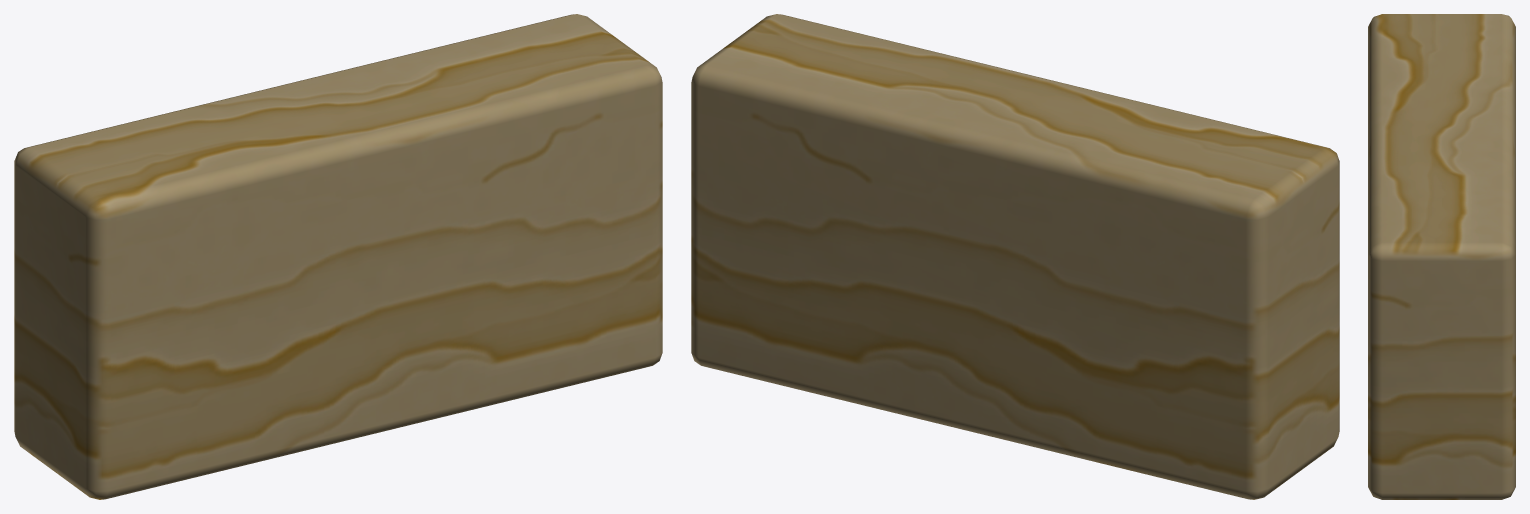
The model's file is SM_Platform_2m_Half_01_B.glb.
The picture shows the model from 3 angles, left to right: view 1: azimuth 30°, elevation 25°; view 2: azimuth 150°, elevation 25°; view 3: azimuth 270°, elevation 25°; orthographic projection. The views are drawn at different scales.
Visible parts, largest first — view 1: SM_Platform_2m_Half_01_B; view 2: SM_Platform_2m_Half_01_B; view 3: SM_Platform_2m_Half_01_B.
Part boxes in pixels (x1,y1,x2,y2): SM_Platform_2m_Half_01_B: (14,14,662,499); SM_Platform_2m_Half_01_B: (691,14,1339,499); SM_Platform_2m_Half_01_B: (1368,14,1515,499).
Size of the model in its own units: 2 by 1 by 0.52.
1 material, 1 textured.
